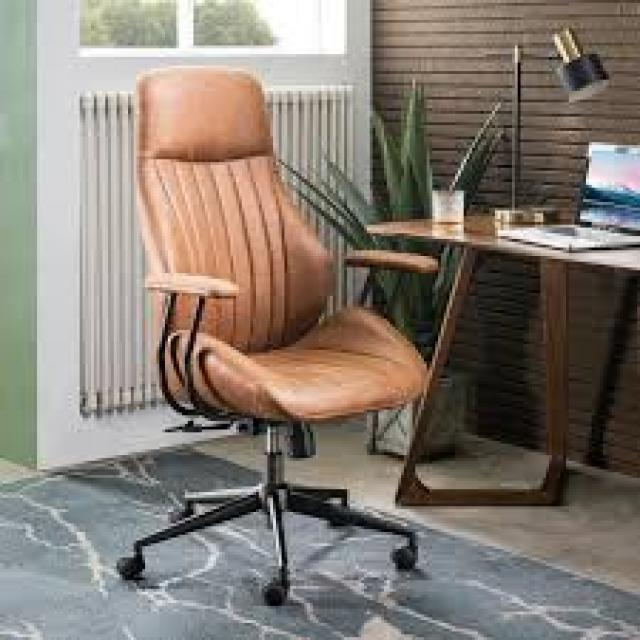chair: (106, 63, 444, 608)
